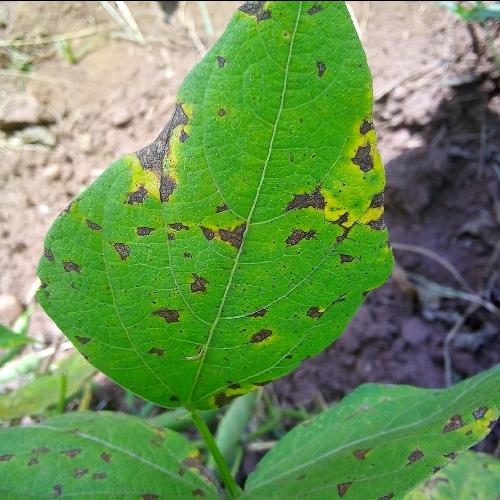hawar: (92, 190, 292, 361), (299, 90, 376, 236)
